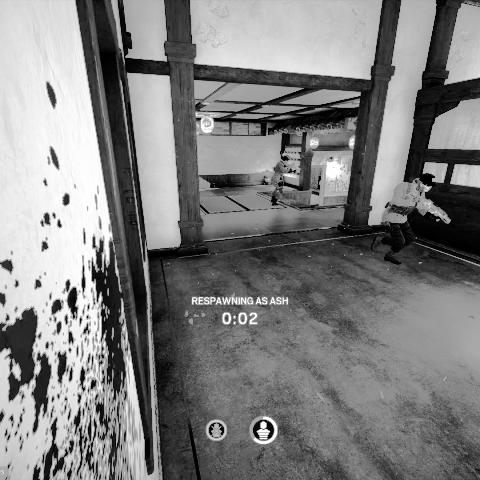Character: (370, 172, 456, 266), (269, 154, 298, 205)
Head: (418, 173, 436, 193), (281, 155, 290, 164)
